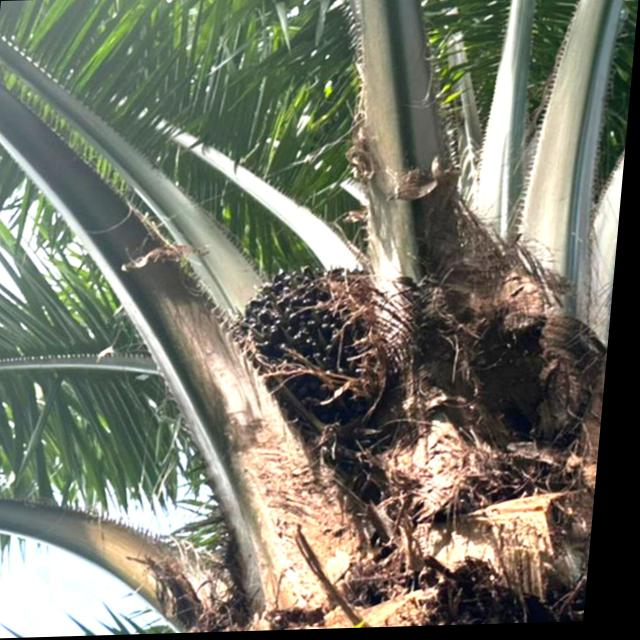almost: (224, 249, 409, 437)
